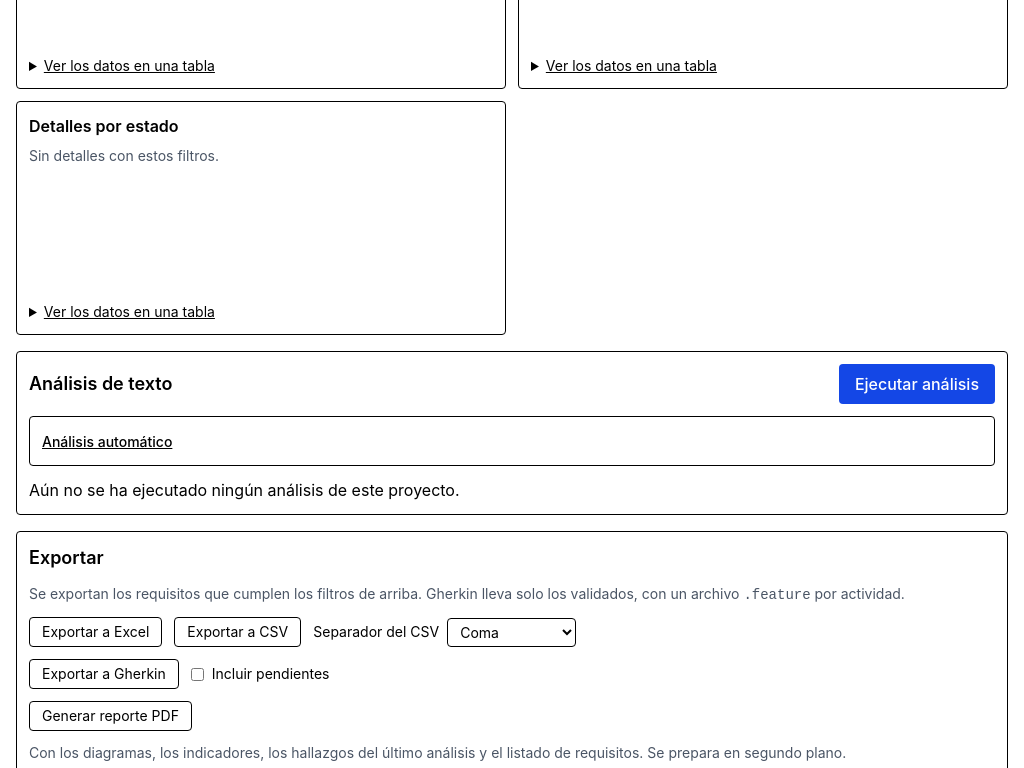
Test case: lanzar el análisis › si ya hay un análisis en curso (409), sigue ese
(page scrolled)
Click the button "Ejecutar análisis".
click(917, 384)  # box [839,364,995,404]
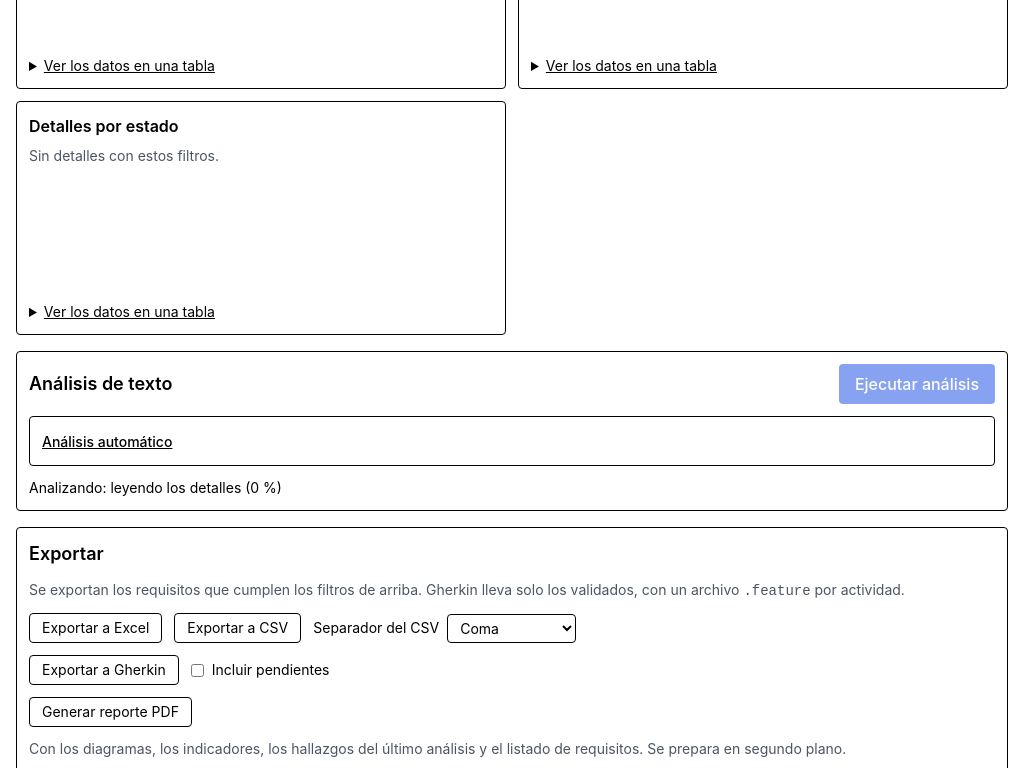
Now the text "Analizando: leyendo los detalles (0 %)" is shown, box [29,479,282,496]
